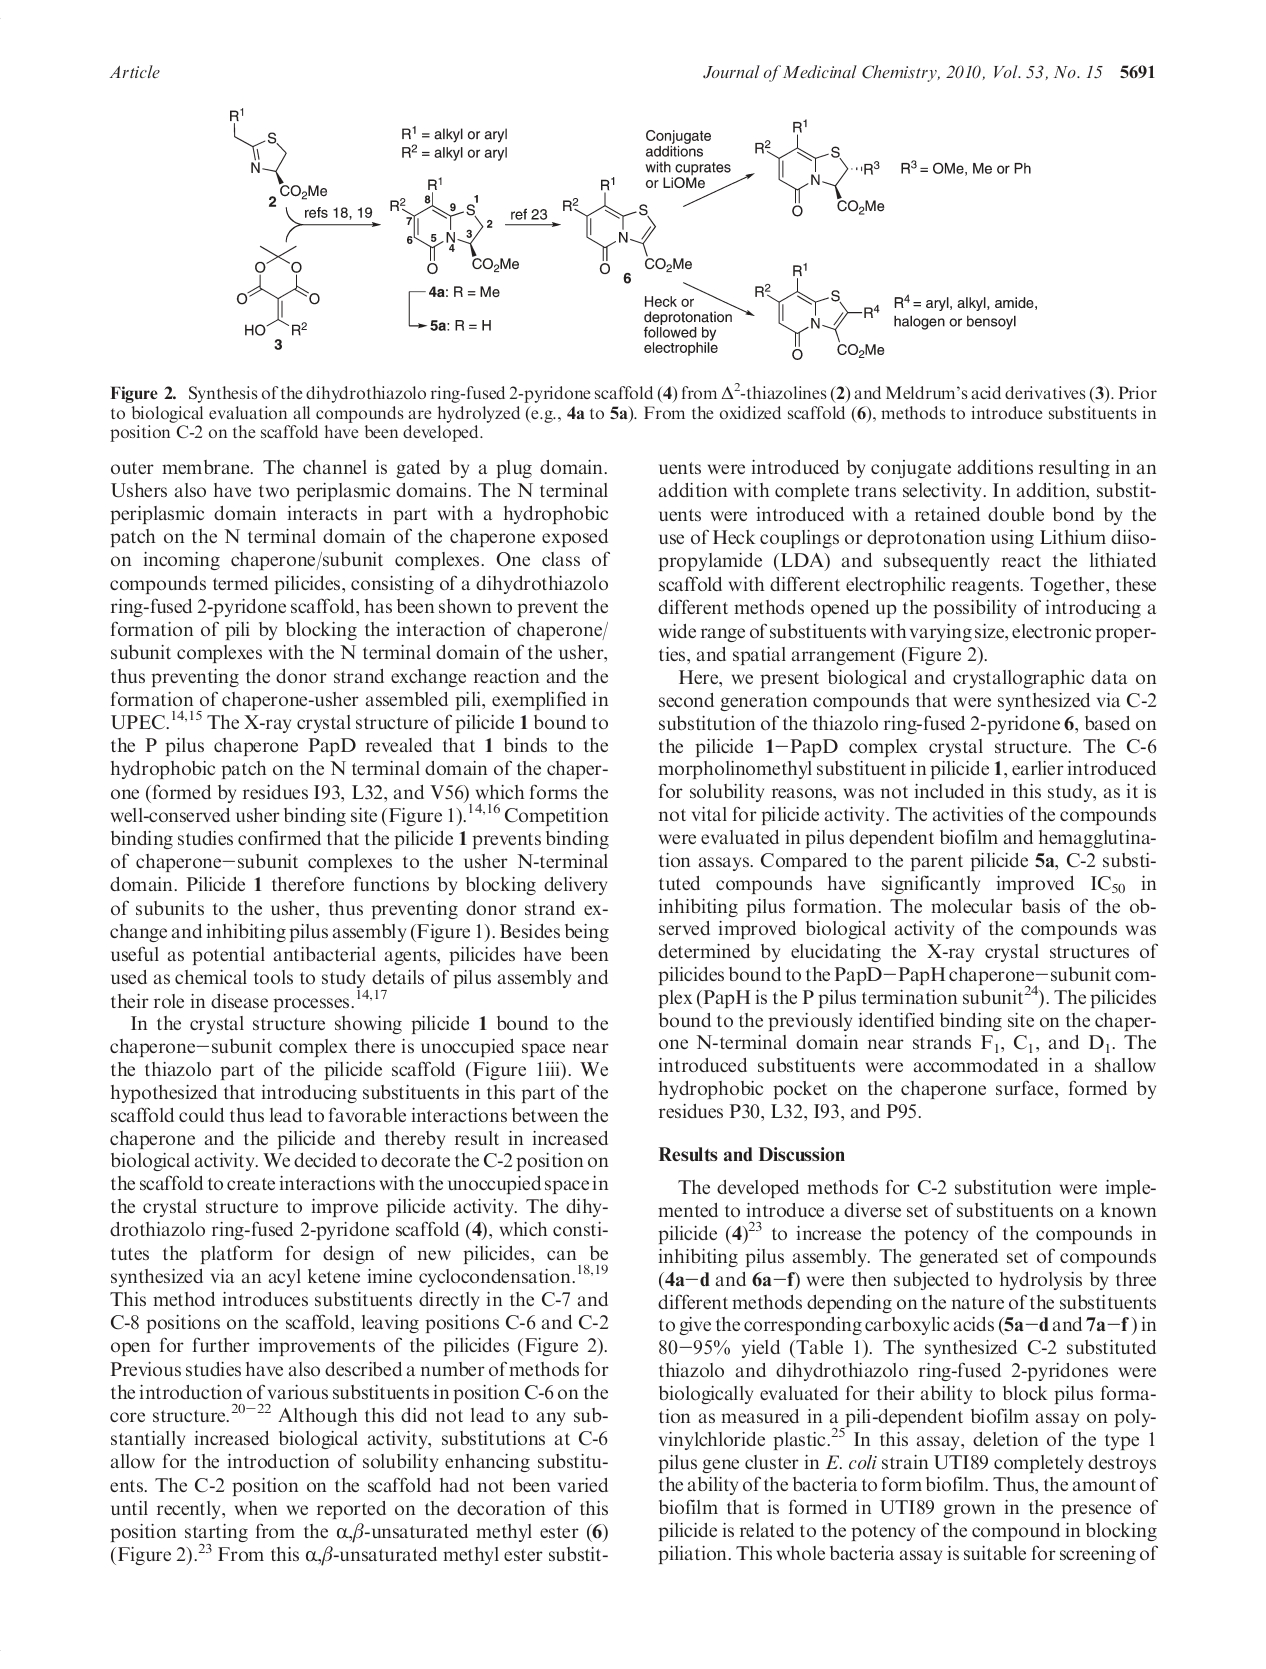exist_molecular: (750, 116, 886, 218), (560, 173, 693, 277), (387, 174, 523, 275), (751, 261, 884, 363), (227, 106, 328, 201), (233, 242, 323, 339)
